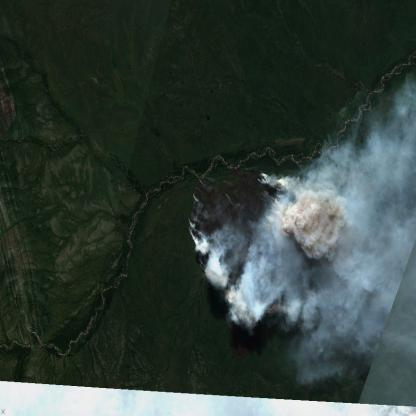fire: (249, 164, 313, 234), (186, 189, 221, 293), (248, 278, 278, 319)
